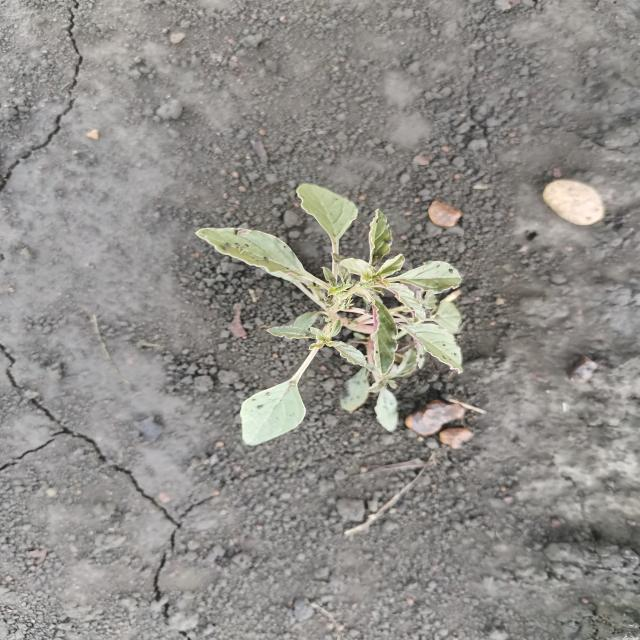Waterhemp: (190, 178, 468, 450)
